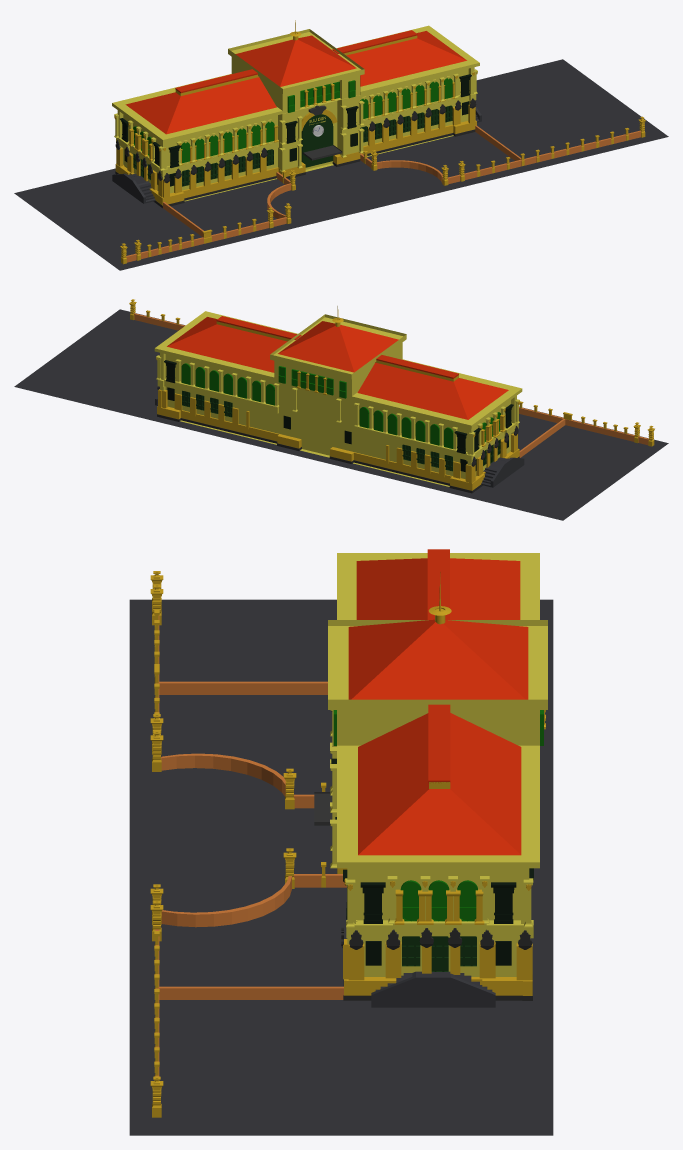
File: Sai_Gon_Centre_Post_Office.obj
3 renders of one model, top to bottom at view 1: azimuth 30°, elevation 25°; view 2: azimuth 150°, elevation 25°; view 3: azimuth 270°, elevation 25°, orthographic. The views are drawn at different scales.
Visible parts, largest first — view 1: base, floor_3, left_roof, gate_wall, wall, top_roof, right_roof, high_column.001, lower_wall_1, arched_window_floor_2, wall_floor_1.001, big_wall (+15 smaller); view 2: base, wall, floor_3, left_roof, top_roof, right_roof, arched_window_floor_2, lower_wall_1, high_column.001, wall_floor_1.001, middle_wall, gate_wall (+12 smaller); view 3: base, right_roof, floor_3, top_roof, gate_wall, left_roof, wall, eaves, stairs, top_roof_bars, wall_floor_1.001, gate_high_column (+10 smaller).
Boxes of the visible parts, x1=… form: base: x1=14, y1=59, x2=668, y2=270; floor_3: x1=112, y1=25, x2=479, y2=142; left_roof: x1=125, y1=77, x2=276, y2=134; gate_wall: x1=126, y1=125, x2=641, y2=262; wall: x1=117, y1=67, x2=474, y2=201; top_roof: x1=235, y1=35, x2=356, y2=86; right_roof: x1=346, y1=31, x2=466, y2=86; high_column.001: x1=114, y1=69, x2=477, y2=172; lower_wall_1: x1=115, y1=120, x2=476, y2=205; arched_window_floor_2: x1=133, y1=78, x2=452, y2=163; wall_floor_1.001: x1=116, y1=104, x2=475, y2=197; big_wall: x1=278, y1=67, x2=359, y2=169; base: x1=14, y1=309, x2=668, y2=520; wall: x1=160, y1=353, x2=516, y2=486; floor_3: x1=154, y1=311, x2=522, y2=428; left_roof: x1=357, y1=362, x2=508, y2=419; top_roof: x1=278, y1=321, x2=398, y2=372; right_roof: x1=167, y1=317, x2=287, y2=372; arched_window_floor_2: x1=181, y1=363, x2=500, y2=448; lower_wall_1: x1=157, y1=406, x2=519, y2=490; high_column.001: x1=156, y1=355, x2=519, y2=456; wall_floor_1.001: x1=158, y1=389, x2=517, y2=483; middle_wall: x1=157, y1=378, x2=518, y2=462; gate_wall: x1=134, y1=313, x2=648, y2=457; base: x1=129, y1=599, x2=553, y2=1135; right_roof: x1=358, y1=713, x2=521, y2=855; floor_3: x1=337, y1=553, x2=539, y2=868; top_roof: x1=348, y1=619, x2=528, y2=699; gate_wall: x1=155, y1=615, x2=346, y2=1076; left_roof: x1=356, y1=558, x2=520, y2=619; wall: x1=347, y1=868, x2=529, y2=976; eaves: x1=328, y1=620, x2=547, y2=709; stairs: x1=371, y1=971, x2=495, y2=1007; top_roof_bars: x1=427, y1=549, x2=450, y2=783; wall_floor_1.001: x1=343, y1=939, x2=532, y2=980; gate_high_column: x1=150, y1=571, x2=296, y2=1117.
Bounding box in the file's own units: 119 × 28.7 × 39.92.
